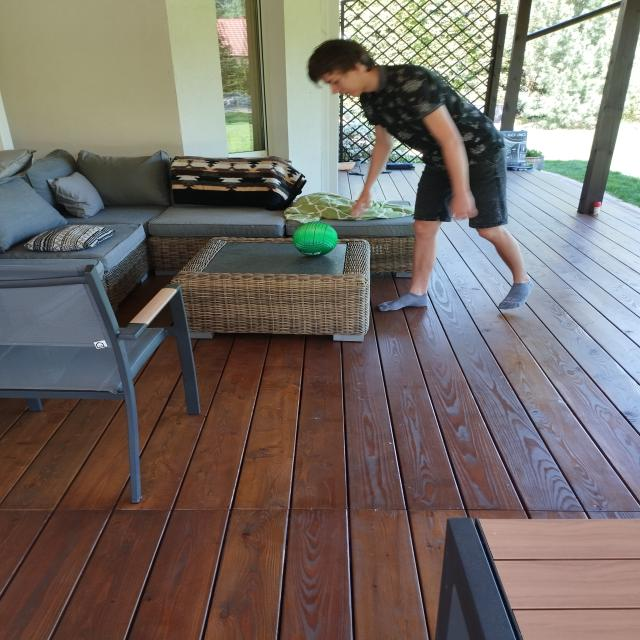zielona: (293, 221, 338, 257)
